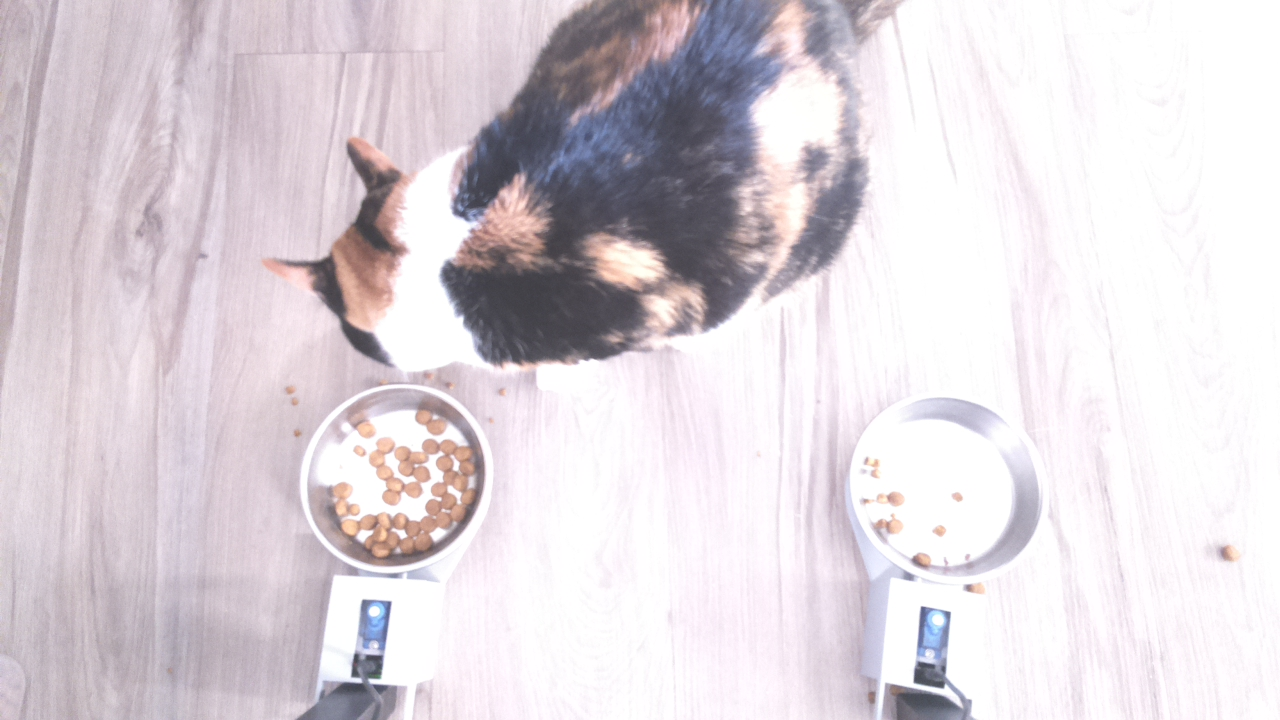bella: (257, 130, 499, 376)
open_bowl: (289, 377, 523, 584), (849, 390, 1052, 587)
